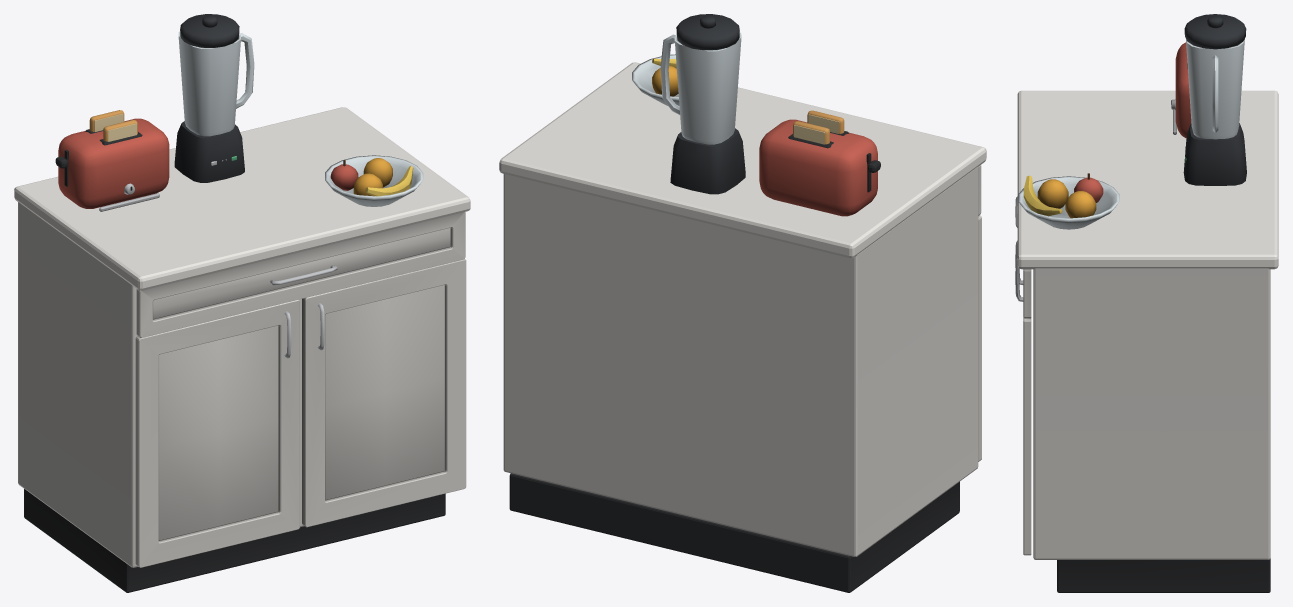
File: breakfastCounter.glb
The picture shows the model from 3 angles, left to right: view 1: azimuth 30°, elevation 25°; view 2: azimuth 150°, elevation 25°; view 3: azimuth 270°, elevation 25°; orthographic projection. The views are drawn at different scales.
Visible parts, largest first — view 1: body, lid, toast; view 2: body, lid, toast; view 3: body, lid.
Boxes of the visible parts, x1,y1,x2,y2 form: body: (14, 31, 470, 592); lid: (180, 14, 239, 47); toast: (55, 110, 137, 168); body: (499, 32, 986, 592); lid: (676, 14, 739, 50); toast: (793, 110, 880, 172); body: (1015, 39, 1278, 592); lid: (1184, 14, 1246, 49).
Bounding box in the file's own units: 1 × 1.38 × 0.6657.
